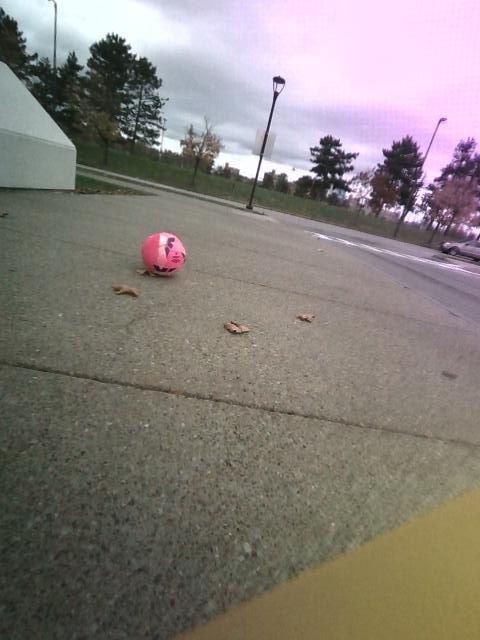ball: (142, 232, 185, 275)
